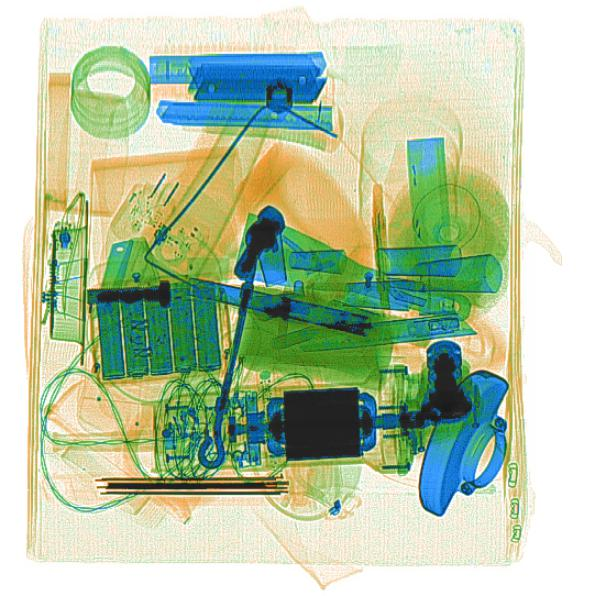battery: (87, 278, 228, 388)
knife: (153, 98, 344, 154), (290, 309, 476, 353), (147, 50, 326, 83), (185, 60, 321, 89), (192, 76, 325, 104), (90, 238, 132, 314)
